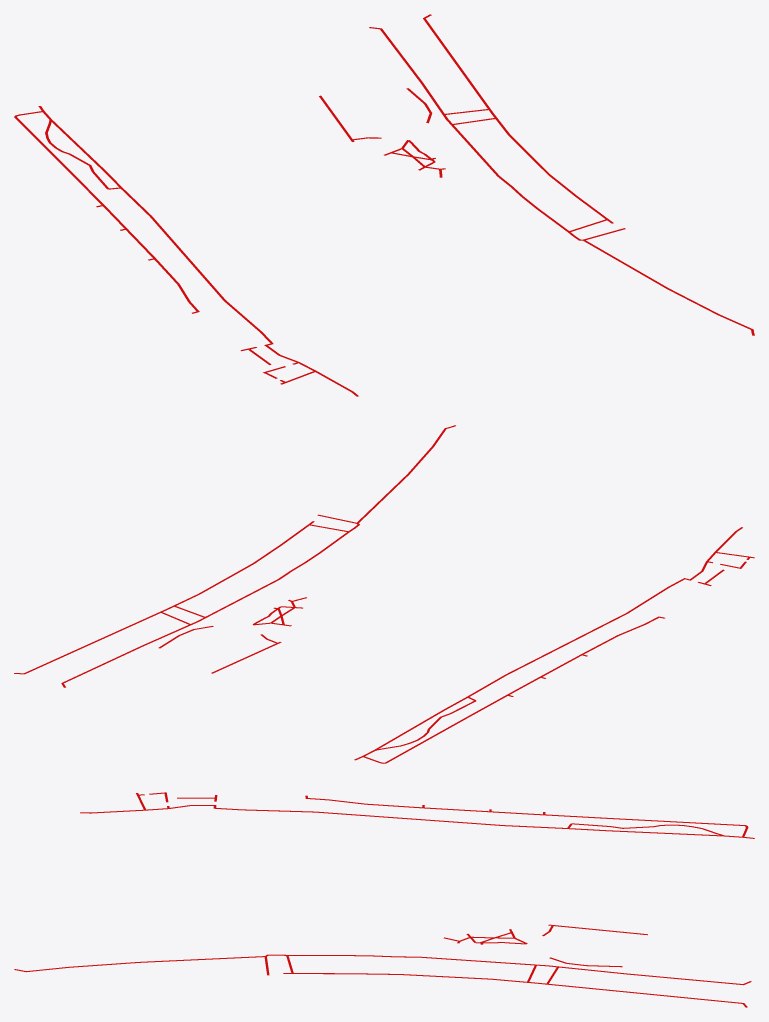
The model's file is Footway.glb.
3 renders of one model, top to bottom at view 1: azimuth 30°, elevation 25°; view 2: azimuth 150°, elevation 25°; view 3: azimuth 270°, elevation 25°, orthographic. The views are drawn at different scales.
Bounding box in the file's own units: 418 × 0 × 609.
